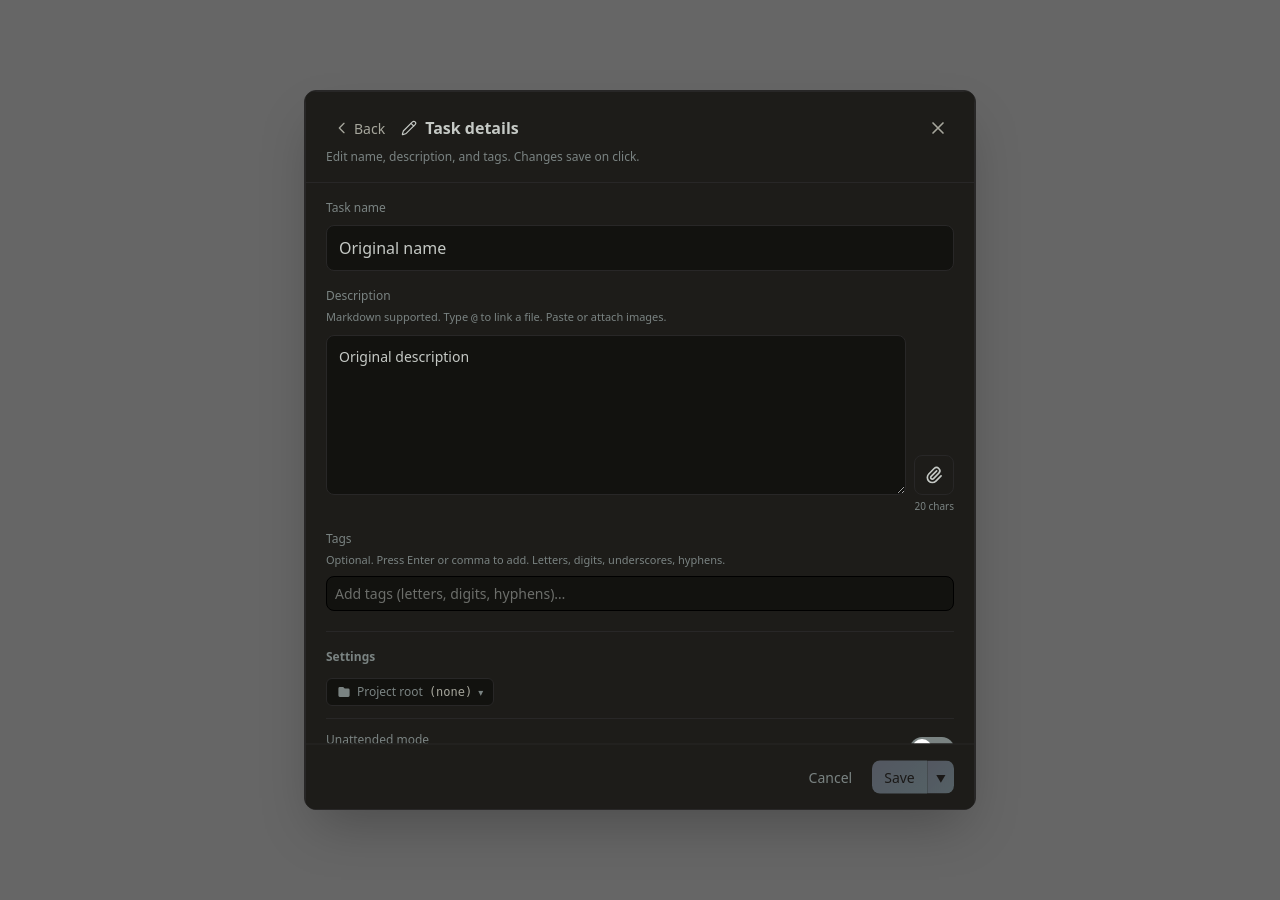
KanbanTaskDetailDialog — save / cancel › enables save when the name OR description changed
Replace the text in the text box with test id "kanban-task-detail-description" with "Modified description": (616, 414) [326,334,906,494]
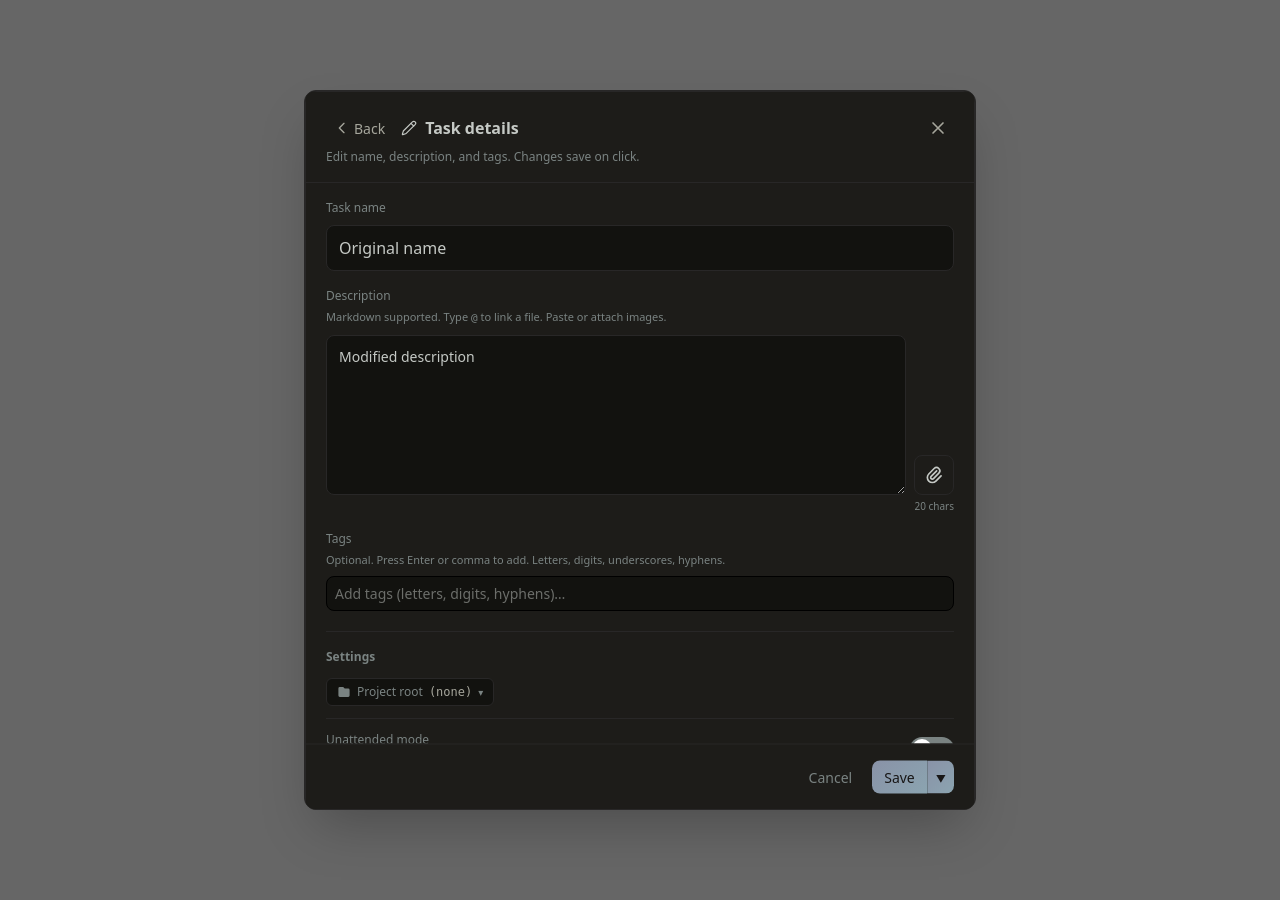
Expected: the button with test id "kanban-task-detail-save" is enabled, [872,760,927,793]
